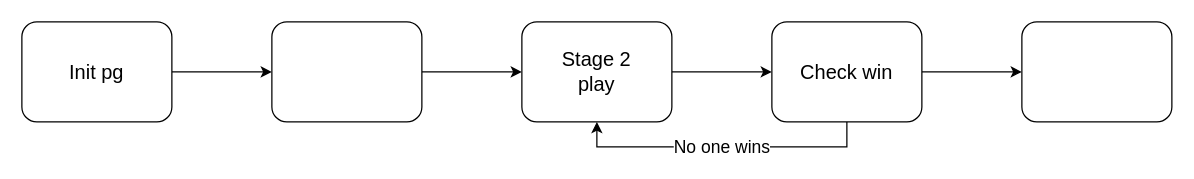
Some shapes in this 1194 by 179 pixel diagram are drawn without their labels. Each missing label, with the centre of its shape:
Stage 1 select mode: the point at 346,71
Stage 3: the point at 1096,71
